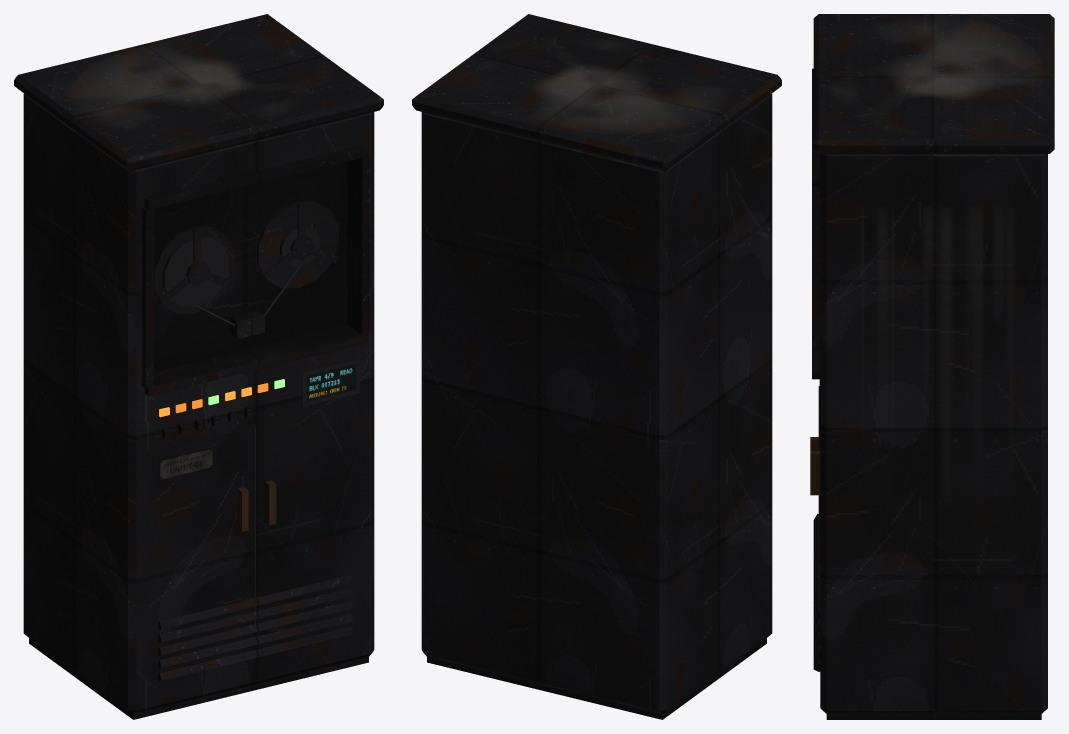
The model's file is terminal_mainframe.glb.
The picture shows the model from 3 angles, left to right: view 1: azimuth 30°, elevation 25°; view 2: azimuth 150°, elevation 25°; view 3: azimuth 270°, elevation 25°; orthographic projection. The views are drawn at different scales.
Visible parts, largest first — view 1: body, decals, spin_reel_l, spin_reel_r, screens; view 2: body, decals; view 3: body, decals.
Boxes of the visible parts, <box> form: body: <box>14,14,383,719</box>; decals: <box>79,51,251,480</box>; spin_reel_l: <box>154,226,234,313</box>; spin_reel_r: <box>257,201,338,288</box>; screens: <box>307,364,356,401</box>; body: <box>412,14,781,719</box>; decals: <box>538,65,707,129</box>; body: <box>810,14,1054,719</box>; decals: <box>878,24,1031,375</box>.
Size of what is drawn, in the model's own units: 0.94 by 1.98 by 0.75.
Materials: 12 (7 with a texture image).
